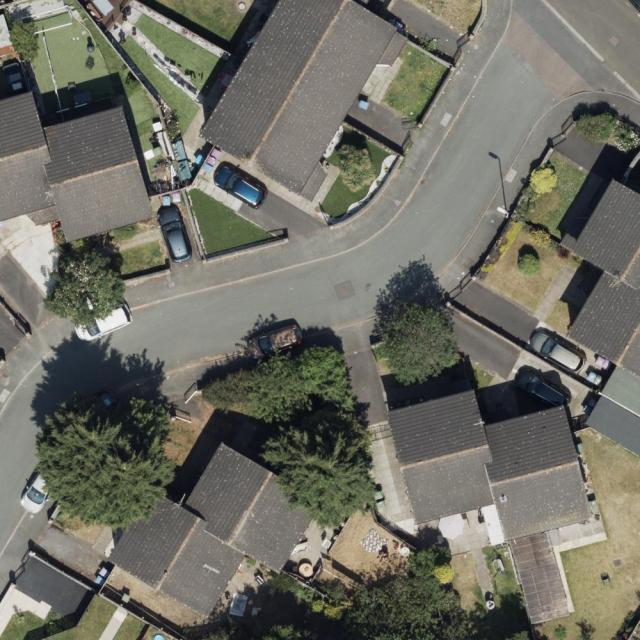roof: (198, 0, 410, 204), (107, 441, 321, 618), (387, 389, 593, 544), (0, 92, 155, 245), (567, 178, 640, 458)
